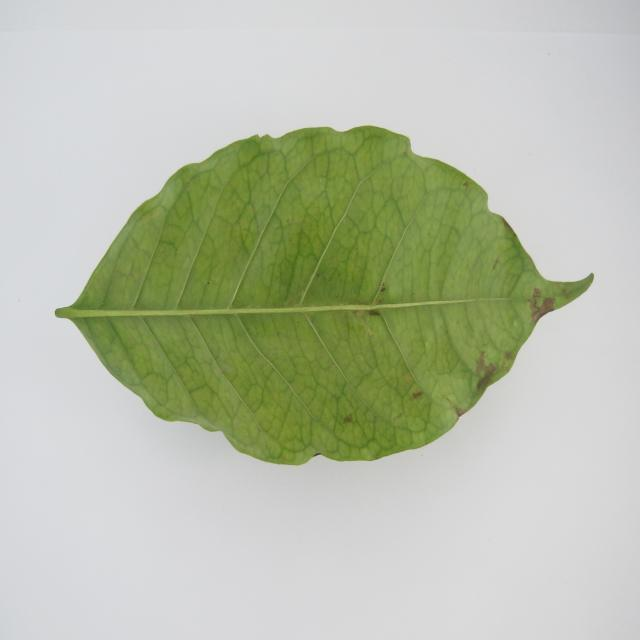DeficienciaNutricional-Calcio: (56, 127, 592, 465)
